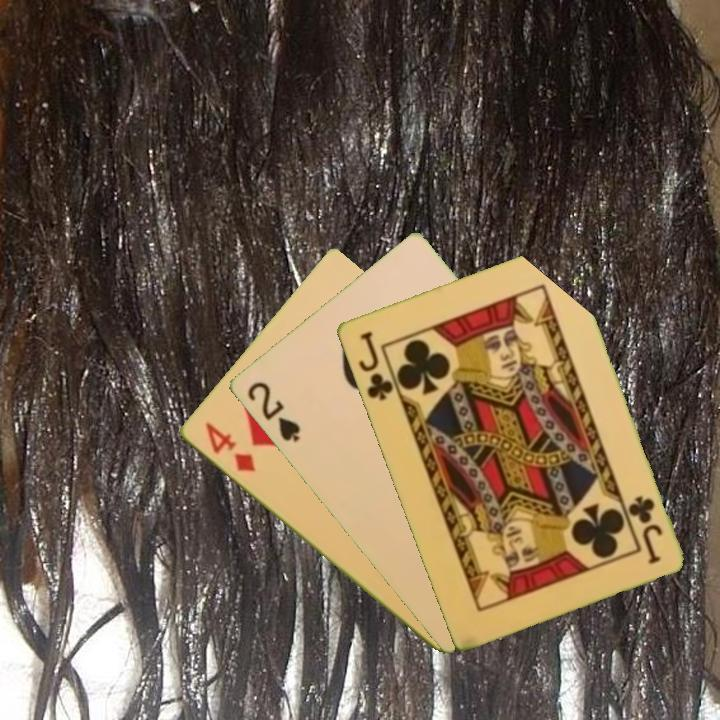2s: (243, 378, 303, 445)
4d: (201, 418, 258, 475)
Jc: (354, 327, 396, 404), (624, 491, 665, 567)
